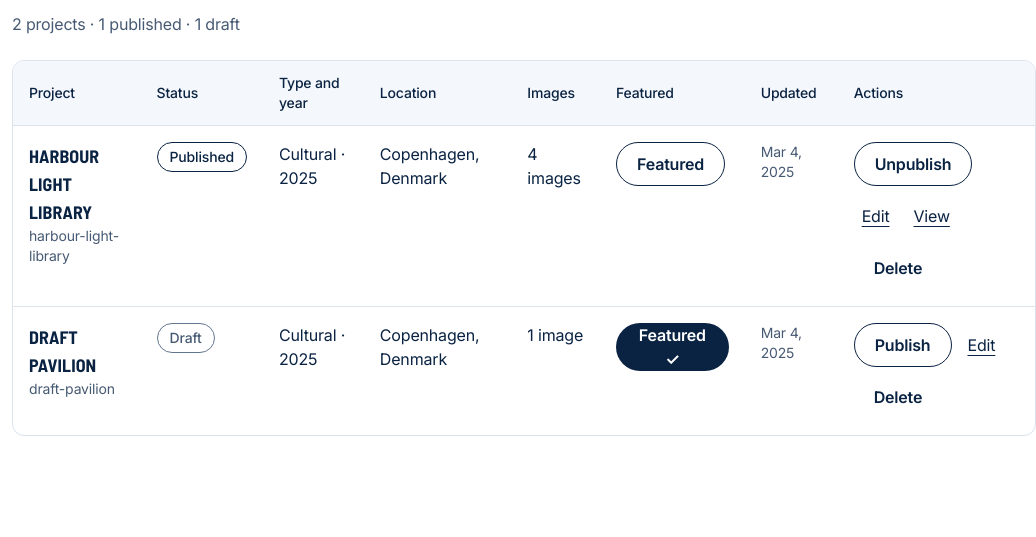
Test: feedback › announces a success and moves focus to it
The image size is (1036, 537).
Click the button with aria-label "Publish Draft Pavilion": (903, 345) [854,323,952,367]
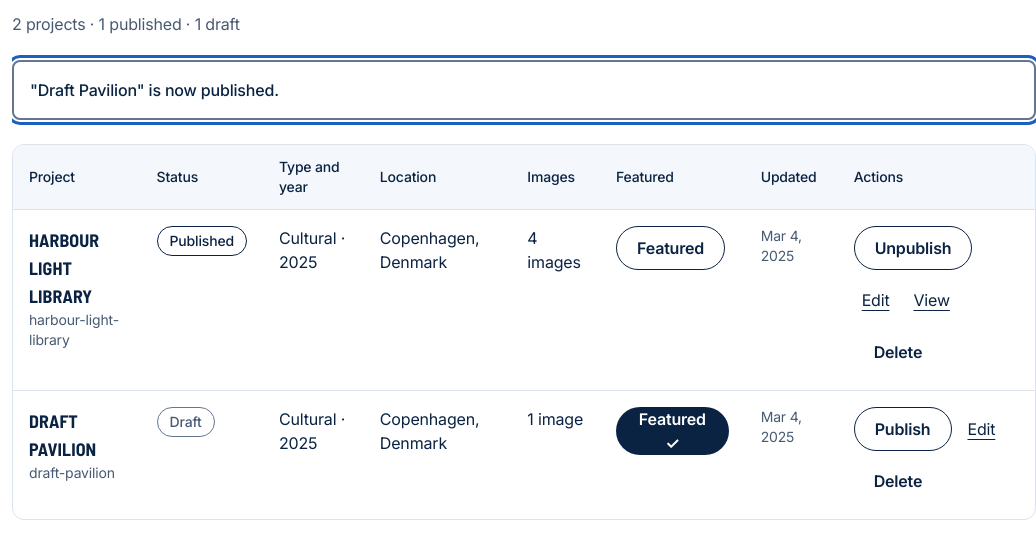
Result: the message reads "\"Draft Pavilion\" is now published." at [30,80,279,100]
